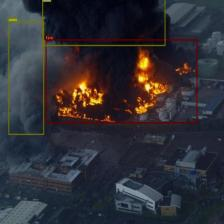fire: (46, 39, 198, 123)
smoke: (42, 0, 165, 46), (8, 21, 44, 134)
